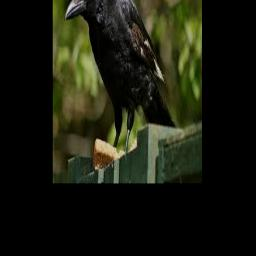Crow: (65, 0, 178, 157)
